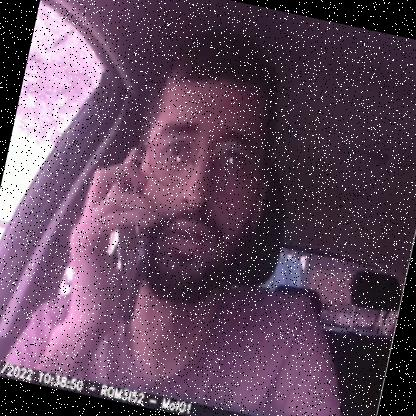phone: (79, 152, 173, 326)
